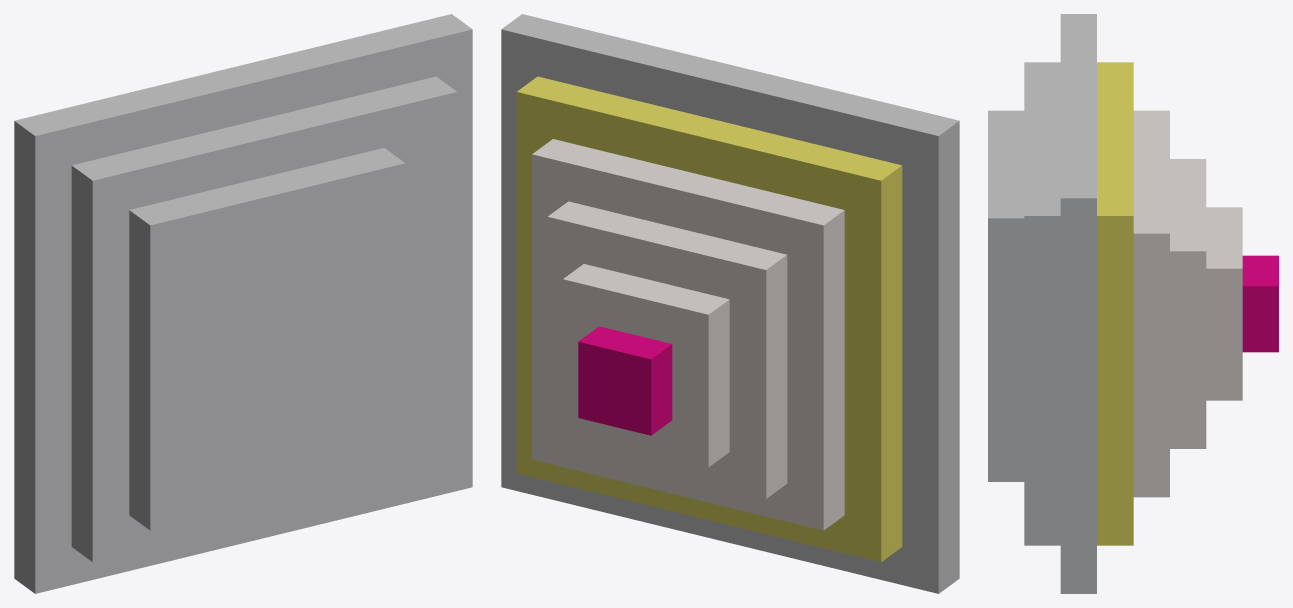
Rendered from Side-Pie.gltf.
3 views of the same model, side by side, from view 1: azimuth 30°, elevation 25°; view 2: azimuth 150°, elevation 25°; view 3: azimuth 270°, elevation 25° (orthographic). The views are drawn at different scales.
Bounding box in the file's own units: 12 × 12 × 8.
